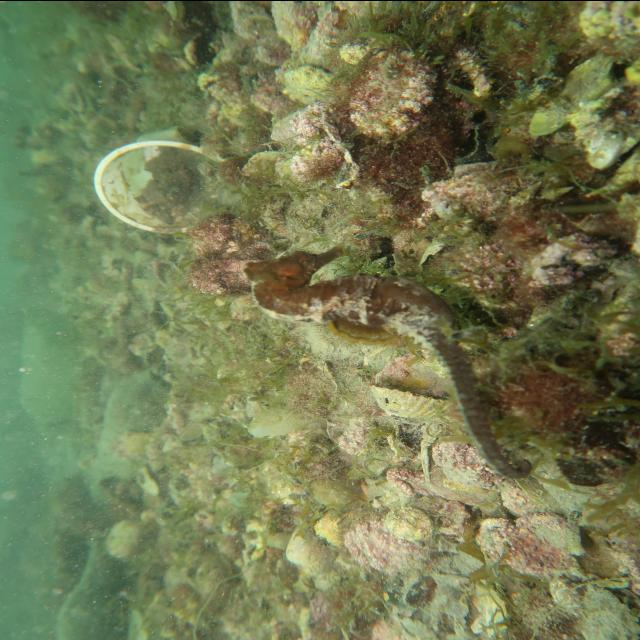Hippo: (235, 240, 354, 296)
